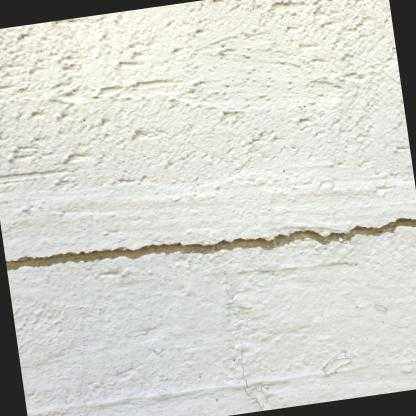crack: (5, 215, 416, 268)
